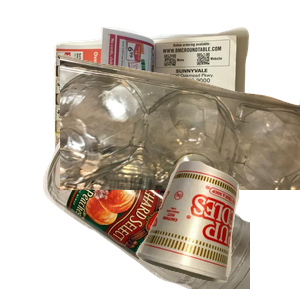glass: (41, 120, 281, 300)
paper: (51, 24, 291, 204)
plastic: (60, 52, 300, 232)
trash: (133, 158, 300, 300)
